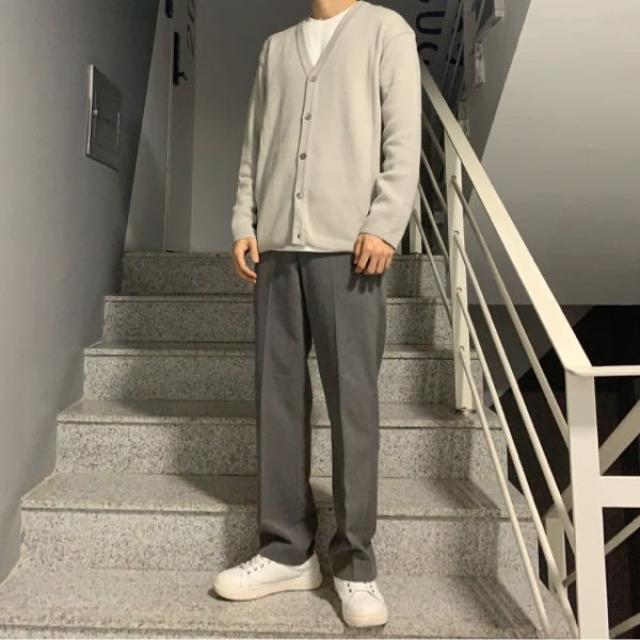cardigan: (231, 2, 421, 254)
slacks: (251, 249, 386, 582)
